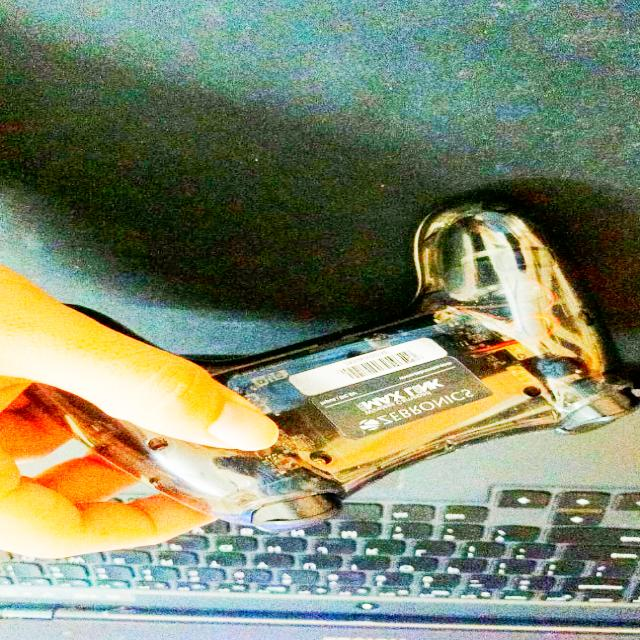gamepad: (10, 197, 640, 536)
